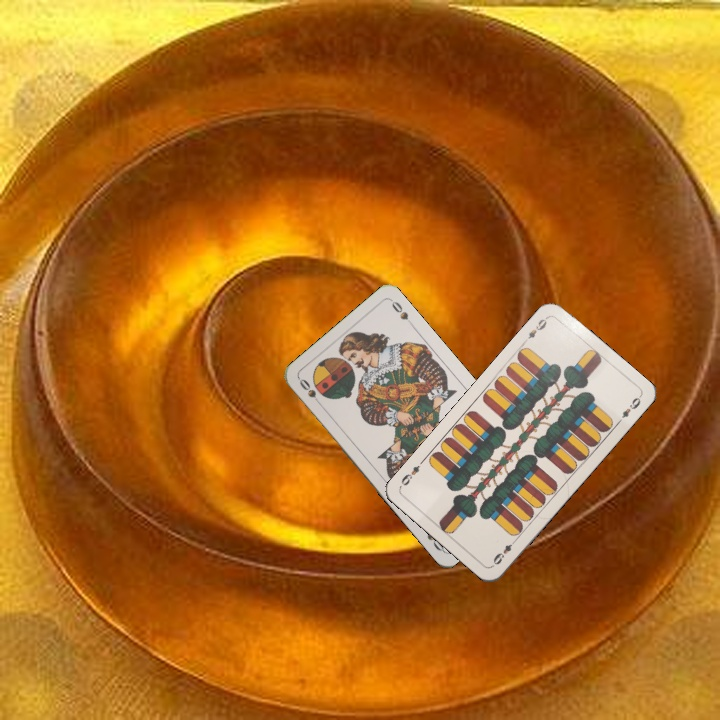E9: (519, 313, 550, 346), (489, 535, 519, 568)
SO: (295, 374, 325, 409)
